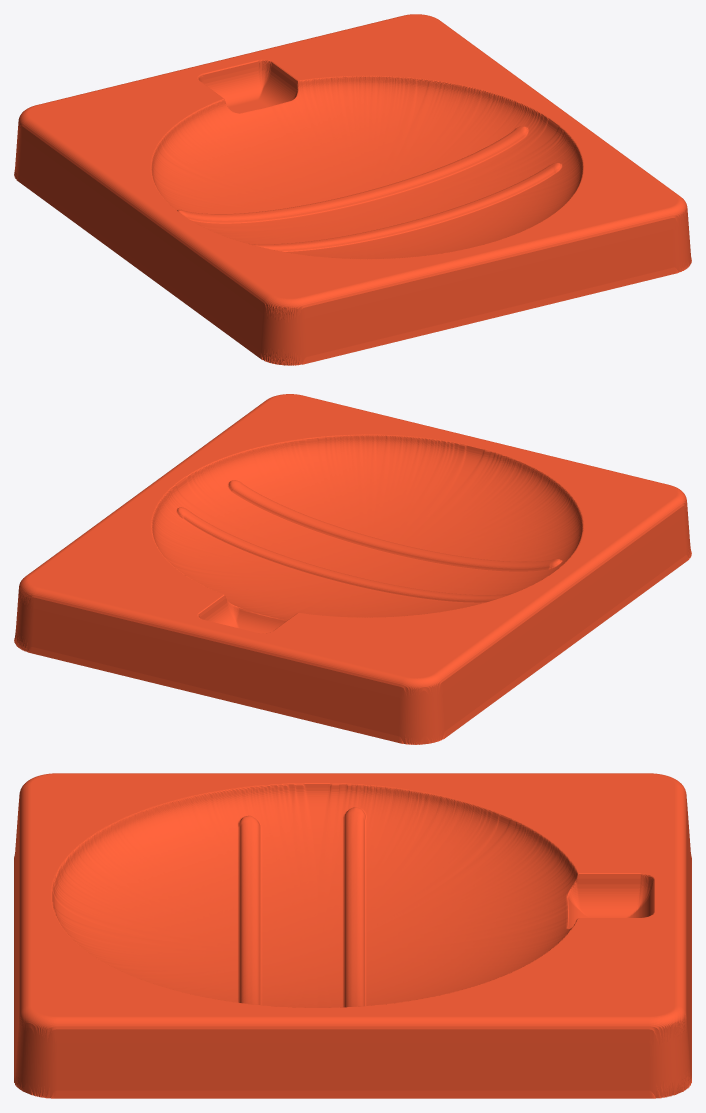
The model's file is mold.glb.
The picture shows the model from 3 angles, top to bottom: view 1: azimuth 30°, elevation 25°; view 2: azimuth 150°, elevation 25°; view 3: azimuth 270°, elevation 25°; orthographic projection. The views are drawn at different scales.
Parts seen in each view (by area): view 1: geometry_0; view 2: geometry_0; view 3: geometry_0.
Part boxes in pixels (box(x1,y1,x2,y2)): geometry_0: box(14, 14, 691, 365); geometry_0: box(14, 394, 691, 744); geometry_0: box(14, 773, 691, 1098).
Size of the model in its own units: 0.1284 by 0.0175 by 0.1435.
